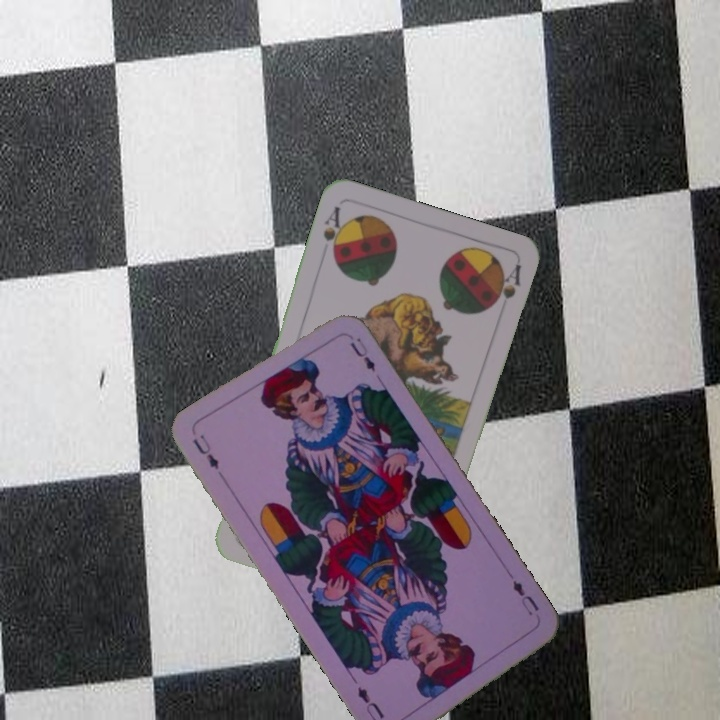EU: (508, 576, 542, 619), (188, 430, 222, 473)
SA: (319, 202, 348, 262)
